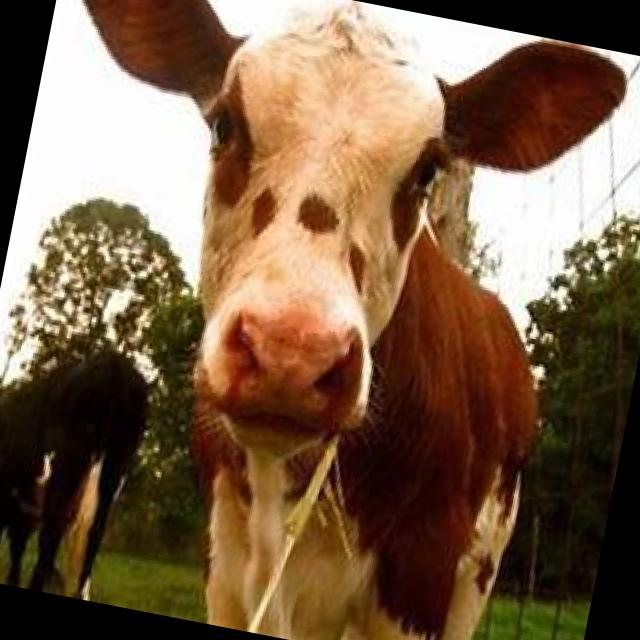animal: (0, 0, 635, 640), (0, 324, 161, 603)
